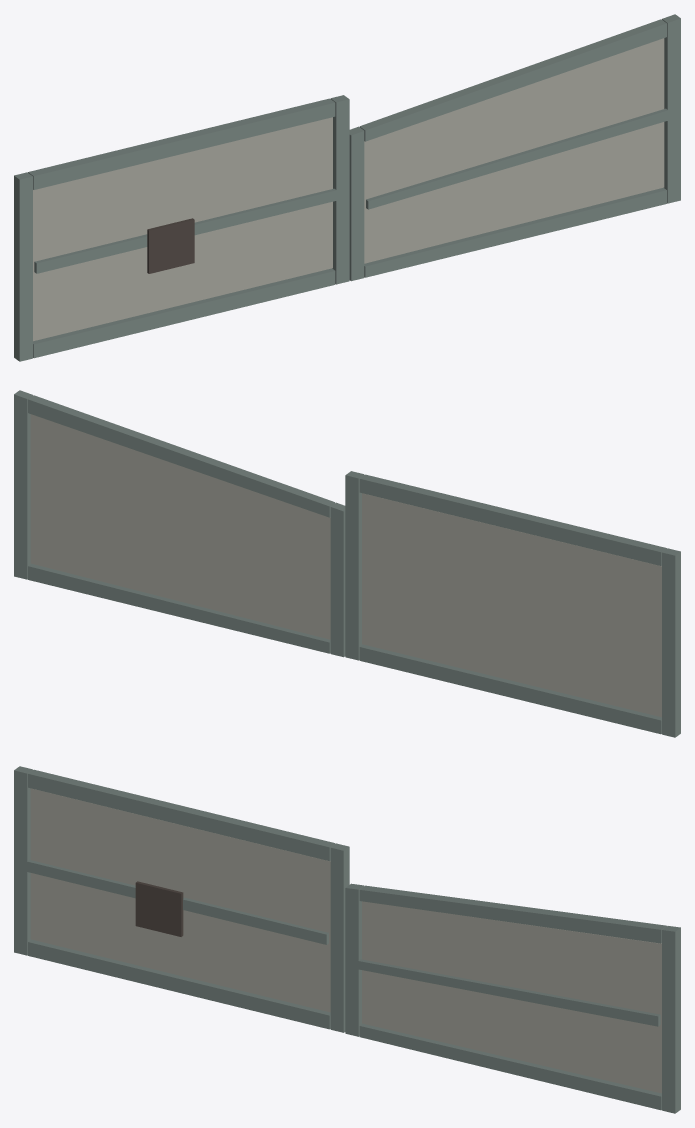
Rendered from SM_PuertaVehiculos_v1_ChapaOndulada_e1_Danado_LOD1.fbx.
3 views of the same model, one above another, from view 1: azimuth 30°, elevation 25°; view 2: azimuth 150°, elevation 25°; view 3: azimuth 330°, elevation 25° (orthographic).
Visible parts, largest first — view 1: Hoja_O, Hoja_E; view 2: Hoja_O, Hoja_E; view 3: Hoja_O, Hoja_E.
Boxes of the visible parts, x1,y1,x2,y2 form: Hoja_O: [14, 95, 349, 361]; Hoja_E: [349, 14, 680, 281]; Hoja_O: [345, 471, 680, 737]; Hoja_E: [14, 390, 345, 657]; Hoja_O: [14, 766, 349, 1032]; Hoja_E: [345, 883, 680, 1113].
Size of what is drawn, in the model's own units: 7.98 by 2.1 by 0.2.
